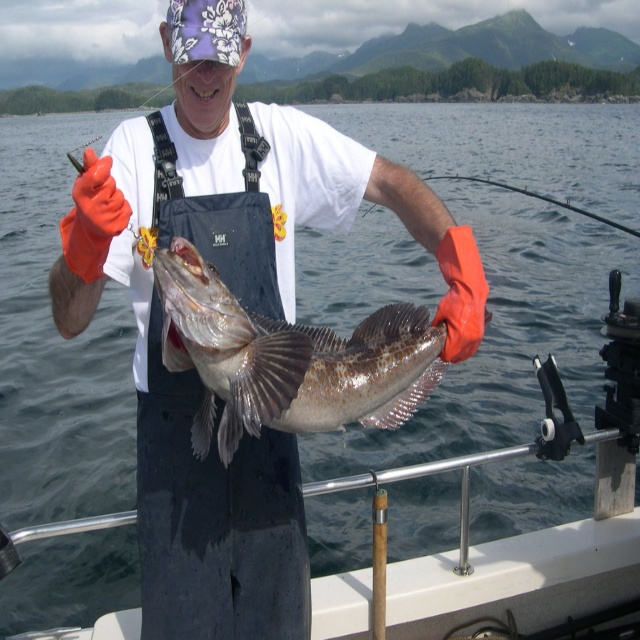Fish: (152, 236, 493, 470)
